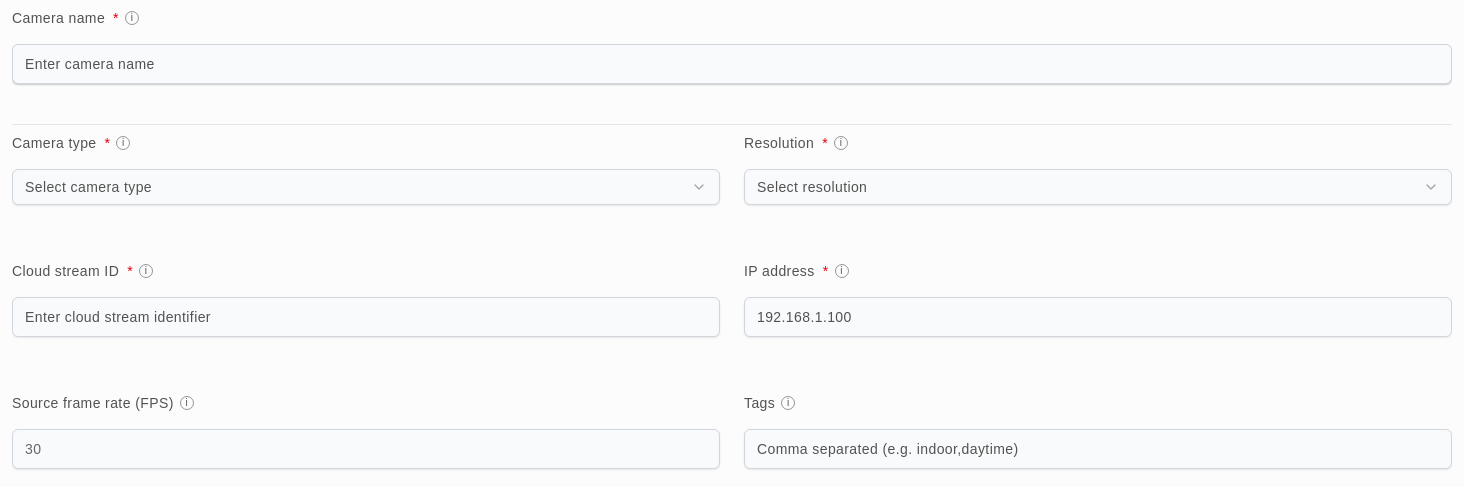
Camera Add - Comprehensive Test Suite › Edge Cases and Error Handling › should handle spaces in tags correctly
The width and height of the screenshot is (1464, 487).
Type "  tag1  ,  tag2  " into the field with placeholder "Comma separated (e.g. indoor,daytime)" at (1098, 449), box x1=744 y1=429 x2=1452 y2=469
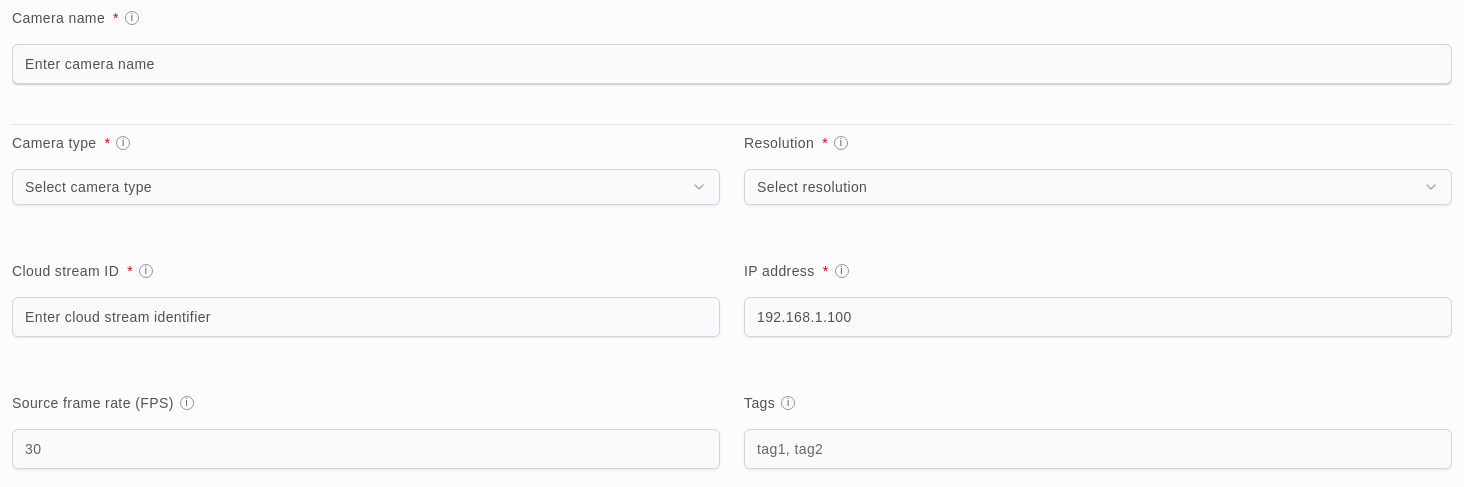
Check: the field showing "tag1, tag2" is shown, box x1=744 y1=429 x2=1452 y2=469
